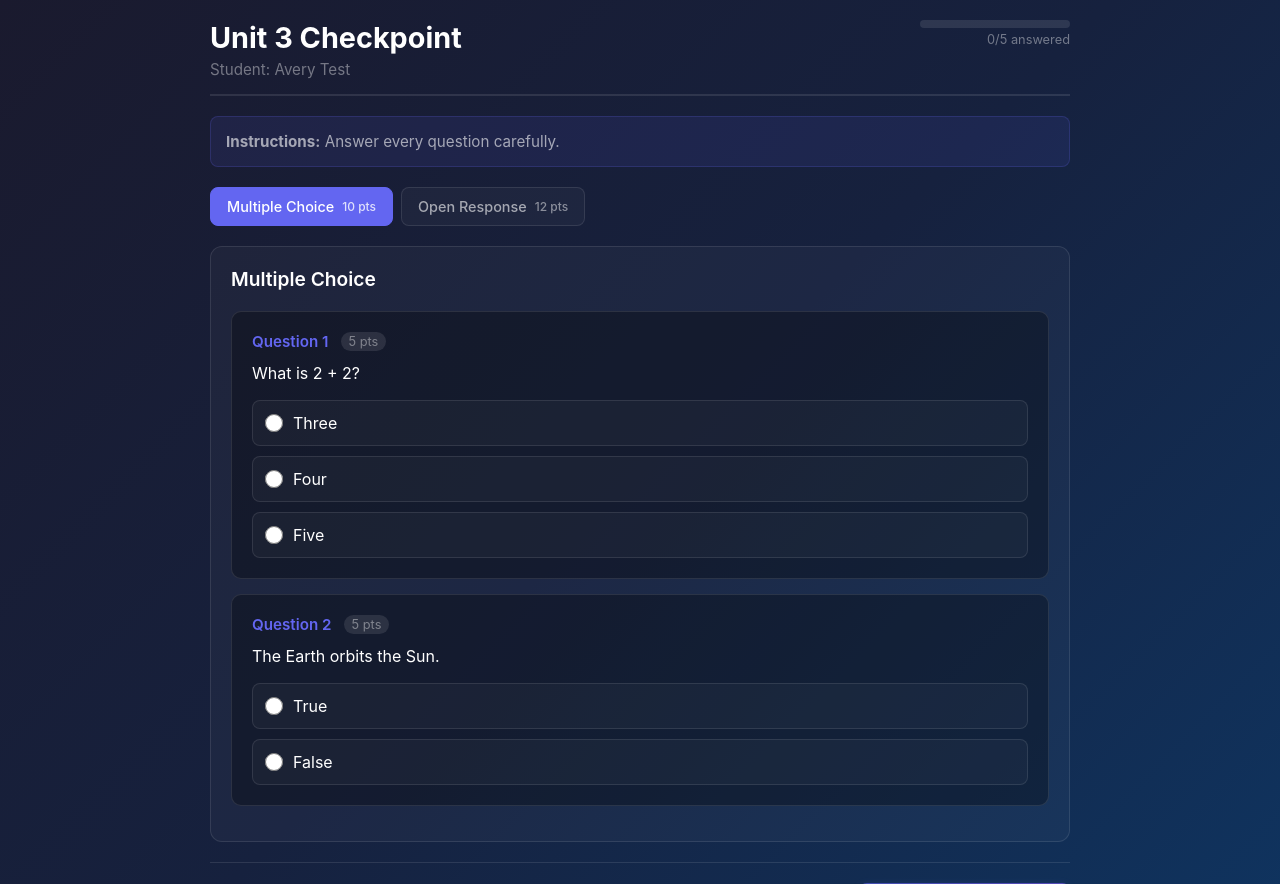
AssignmentPlayer mounts without crashing (render-time smoke) › renders header, tabs, and both extracted input groups with a rich assignment
Expected: the heading "Unit 3 Checkpoint" is shown, [210,20,462,55]
Expected: the text "Student: Avery Test" is shown, [210,60,350,79]
What coordinates should you click on to do the following:
click the radio button labelled "Four"
I would click on:
 (274, 479)
Its box is [265,470,283,488].
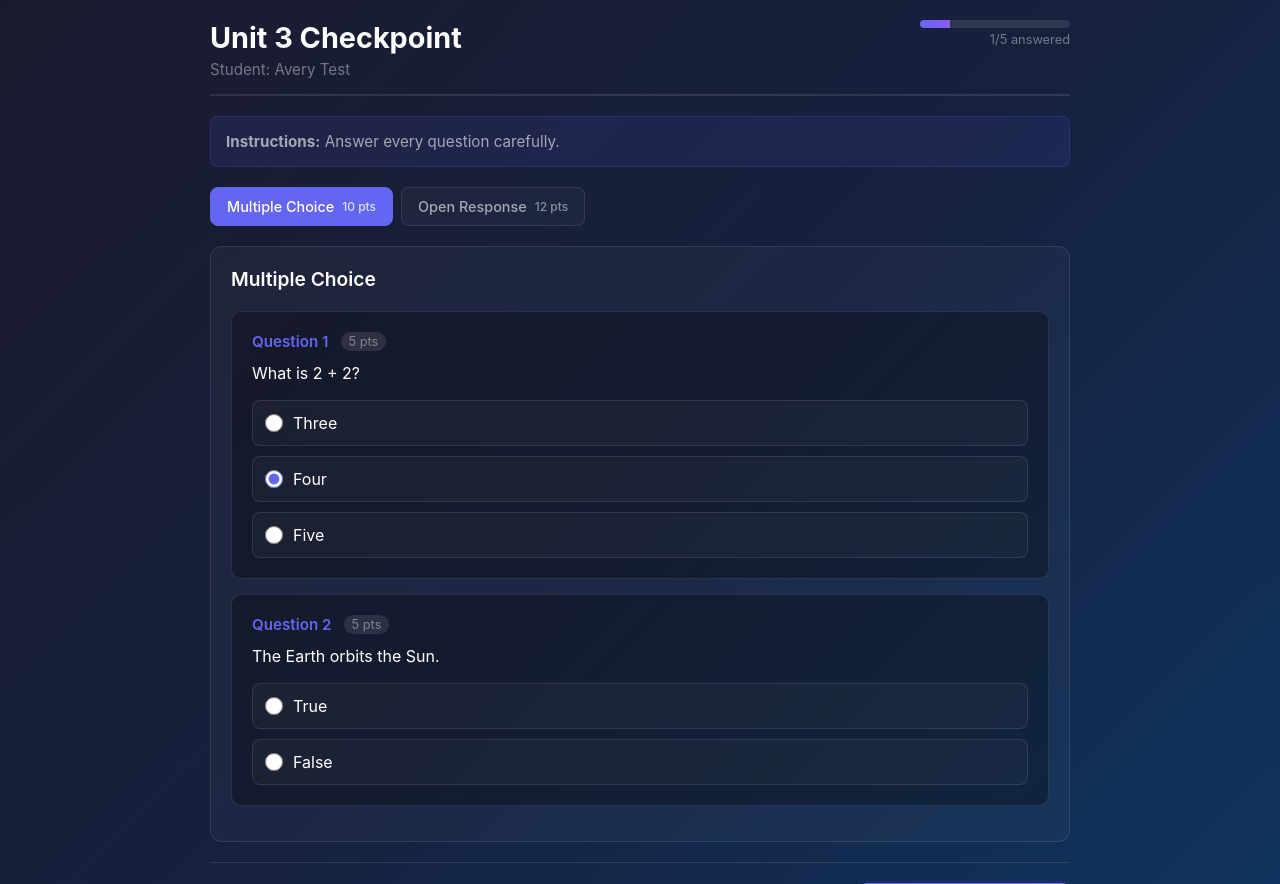
Expected: the text "1/5 answered" is shown, [990,32,1070,47]
What coordinates should you click on to do the following:
click the button "Open Response 12 pts"
I would click on:
 (493, 206)
Its box is [401,187,585,226].
(page scrolled)
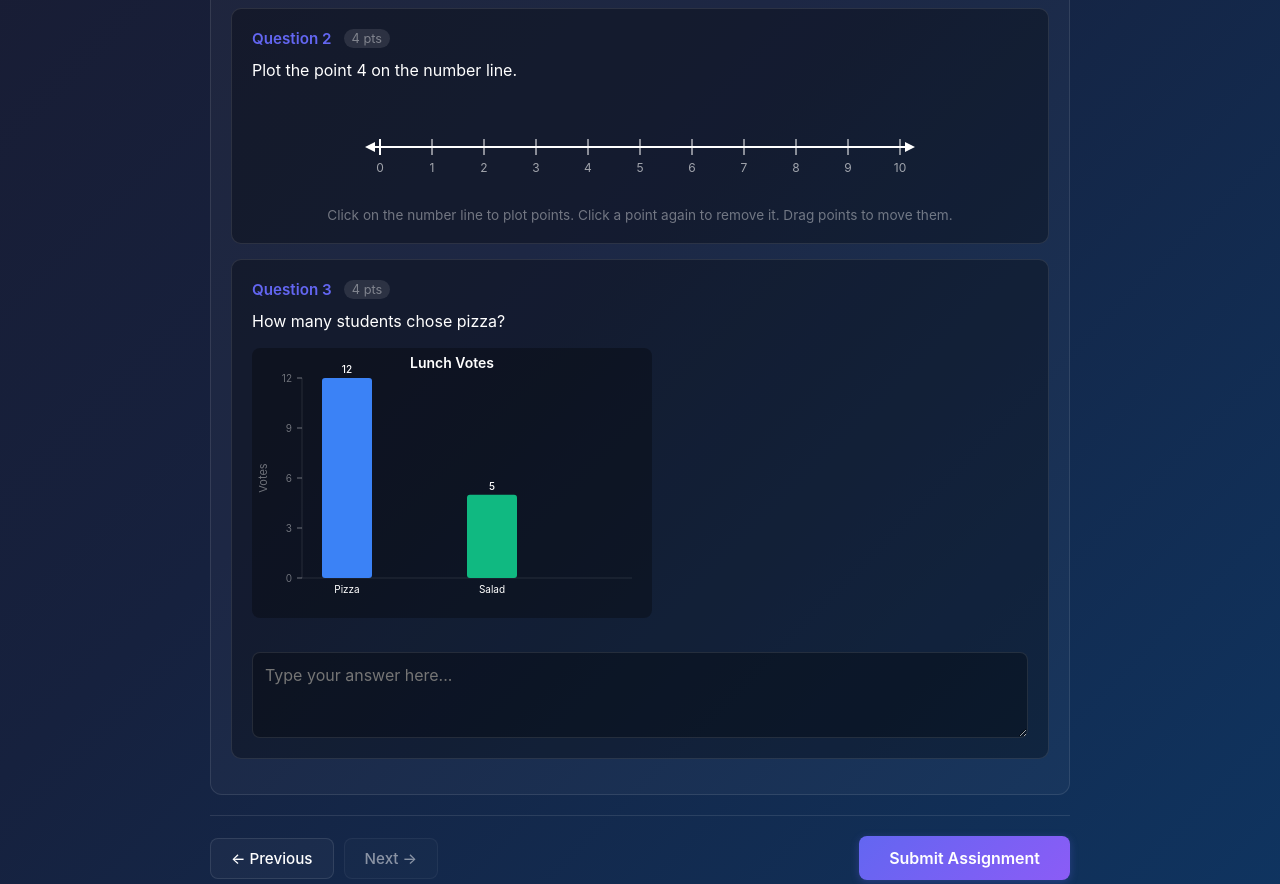
Expected: the text "Lunch Votes" is shown, [410,354,494,371]
Expected: the text "Plot the point 4 on the number line." is shown, [252,60,517,80]
